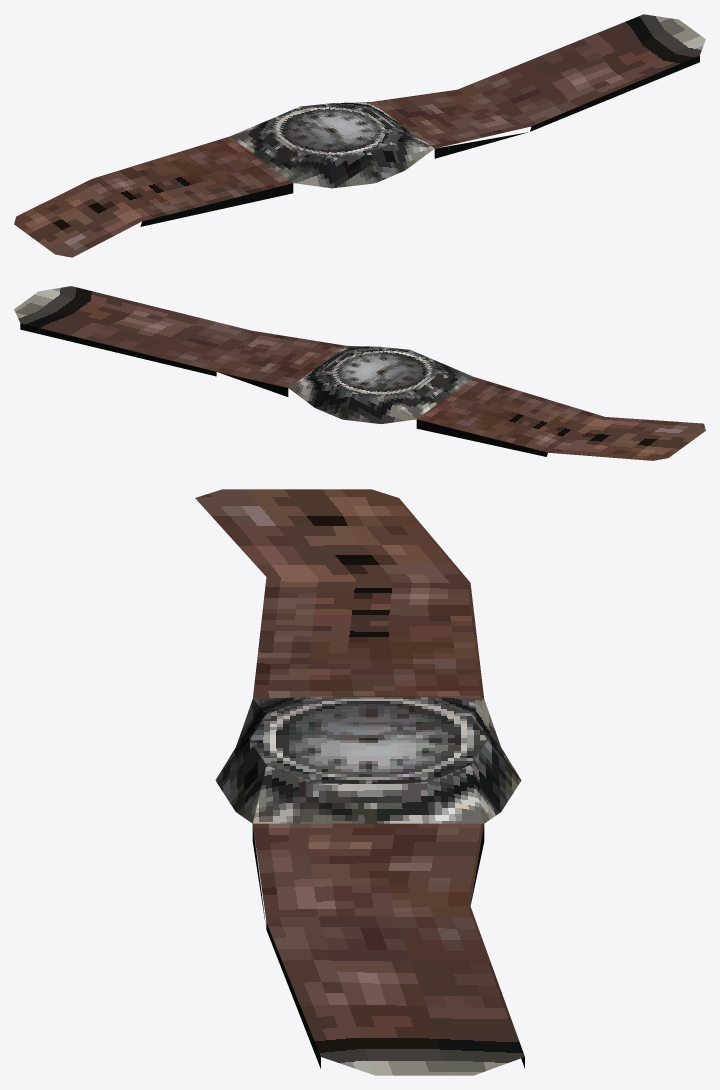
The model's file is watch01.fbx.
3 renders of one model, top to bottom at view 1: azimuth 30°, elevation 25°; view 2: azimuth 150°, elevation 25°; view 3: azimuth 270°, elevation 25°, orthographic. The views are drawn at different scales.
Parts seen in each view (by area): view 1: mesh_0; view 2: mesh_0; view 3: mesh_0.
Boxes of the visible parts, x1,y1,x2,y2 form: mesh_0: [14, 14, 705, 257]; mesh_0: [14, 286, 705, 460]; mesh_0: [195, 489, 524, 1075].
Bounding box in the file's own units: 42.7 × 1.3 × 9.7.
Materials: 1 (1 with a texture image).
